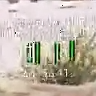hacks_1: (19, 41, 40, 67), (44, 41, 61, 67), (62, 40, 76, 63)
